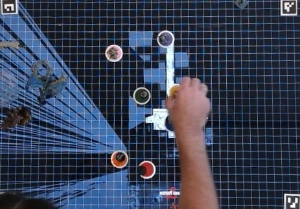blue: (164, 113, 183, 132)
green: (131, 83, 153, 104)
orange: (111, 149, 130, 169)
pink: (103, 41, 124, 62)
red: (137, 157, 159, 180)
violet: (154, 29, 174, 48)
yellow: (168, 80, 191, 102)
